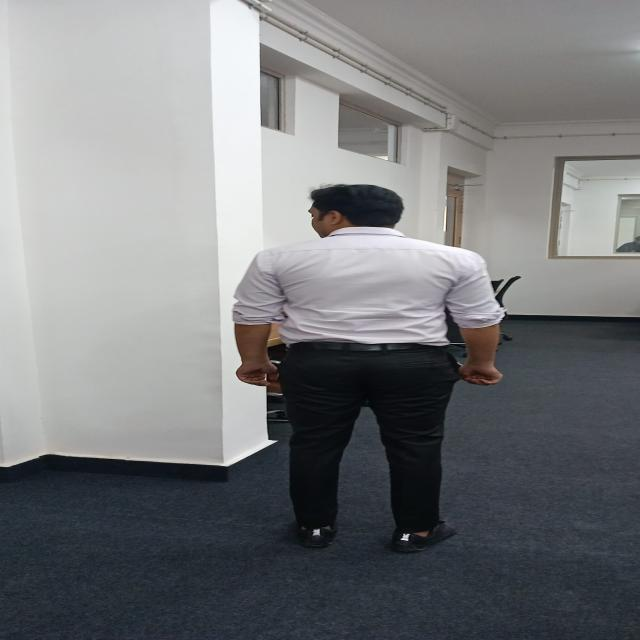unsafe: (218, 178, 513, 557)
